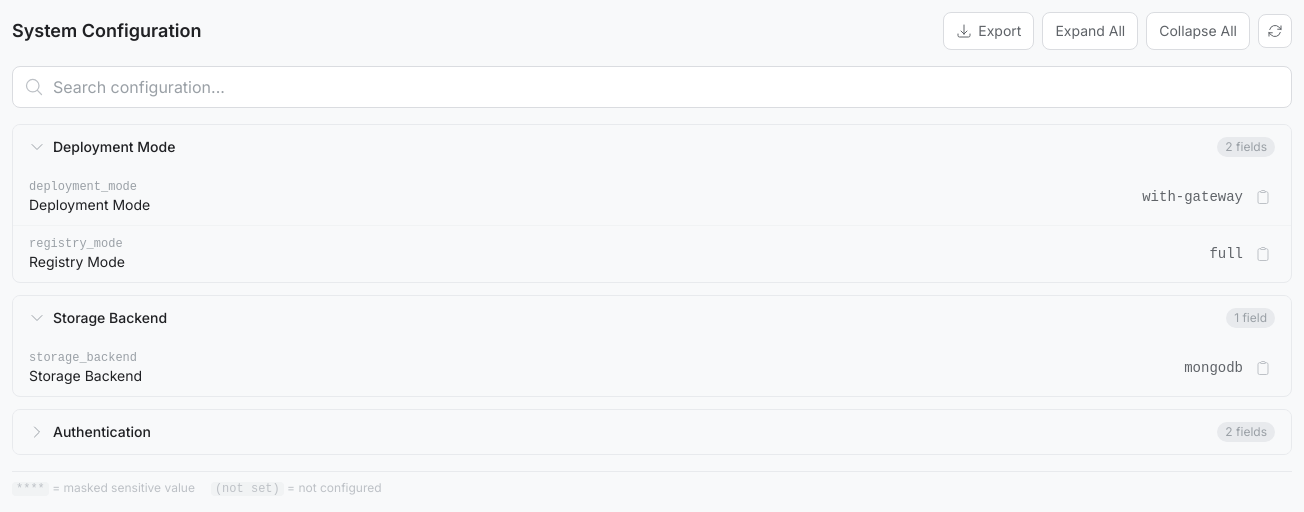
ConfigPanel › shows "no results" message for non-matching search
Check: the heading "System Configuration" is shown, box [12, 17, 201, 45]
Type "zzz_nonexistent_zzz" into the field with placeholder "Search configuration..." at {"x": 652, "y": 87}, box [12, 66, 1292, 108]
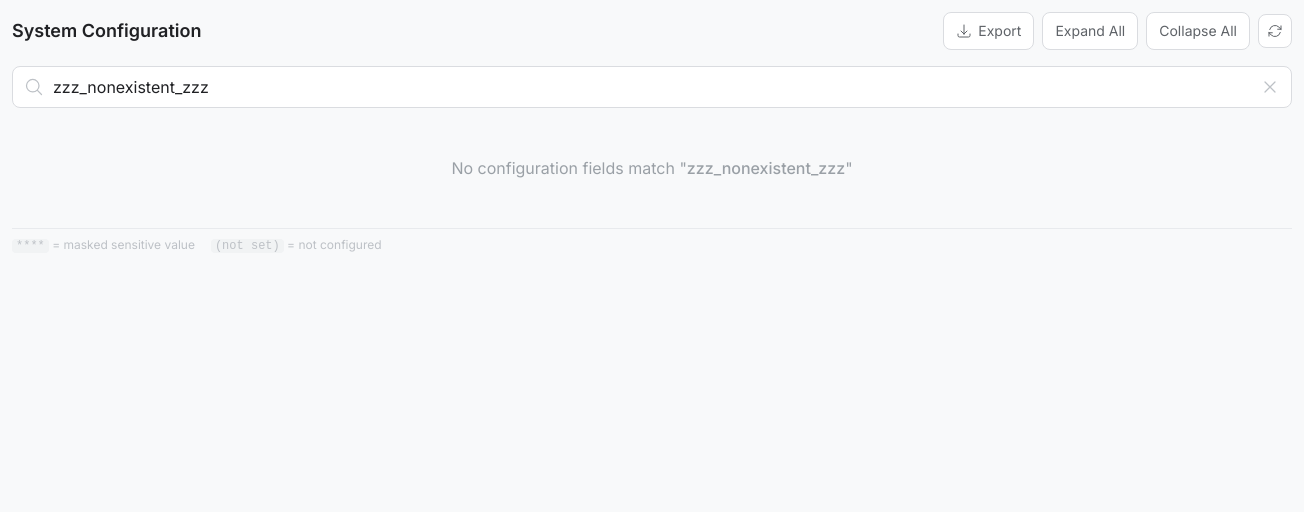
Check: the element with test id "no-results" is shown, box [451, 158, 853, 178]
